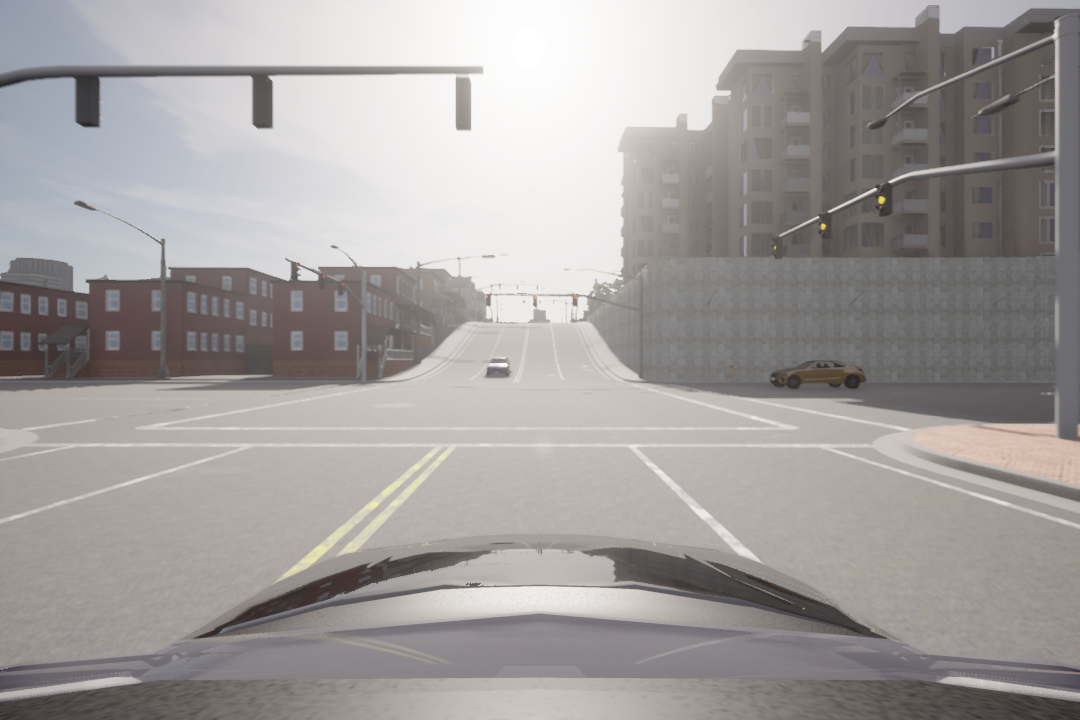TrafficLight: (873, 181, 896, 221), (815, 211, 834, 242), (772, 233, 786, 258), (290, 260, 300, 283), (334, 278, 346, 297), (317, 271, 327, 291)
